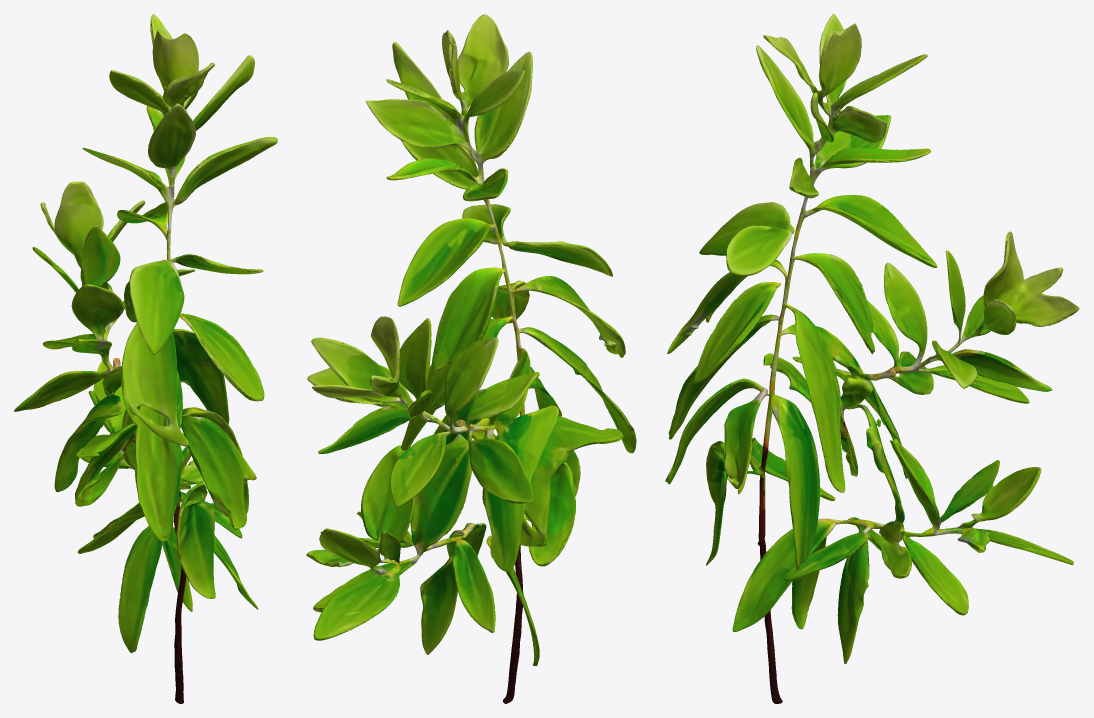
File: sandalwood.glb
3 renders of one model, left to right at view 1: azimuth 30°, elevation 25°; view 2: azimuth 150°, elevation 25°; view 3: azimuth 270°, elevation 25°, orthographic. The views are drawn at different scales.
Visible parts, largest first — view 1: tripo_node_ea924622-1e3a-4562-a07f-af4cb0b84a71; view 2: tripo_node_ea924622-1e3a-4562-a07f-af4cb0b84a71; view 3: tripo_node_ea924622-1e3a-4562-a07f-af4cb0b84a71.
Boxes of the visible parts, <box> form: tripo_node_ea924622-1e3a-4562-a07f-af4cb0b84a71: <box>14,14,277,703</box>; tripo_node_ea924622-1e3a-4562-a07f-af4cb0b84a71: <box>306,14,636,703</box>; tripo_node_ea924622-1e3a-4562-a07f-af4cb0b84a71: <box>665,14,1079,703</box>.
Size of the model in its own units: 0.3606 by 1 by 0.5453.
Materials: 1 (1 with a texture image).
